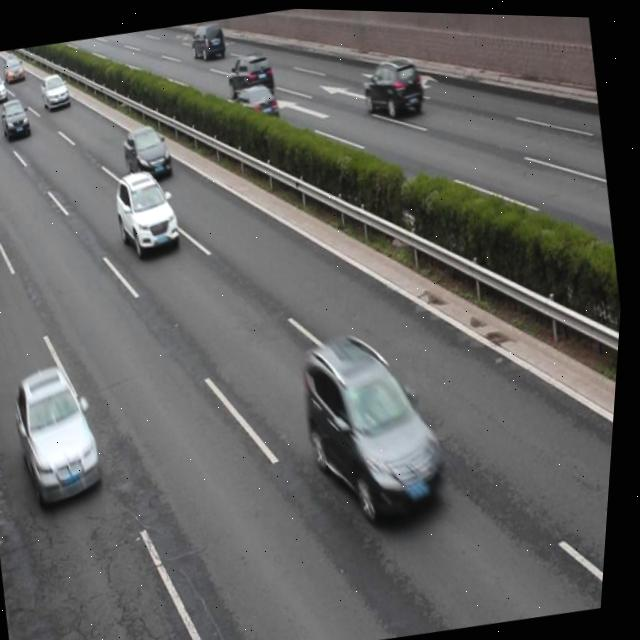car: (293, 317, 460, 532), (9, 359, 118, 516), (112, 163, 188, 259), (357, 48, 428, 121), (118, 120, 178, 185), (227, 79, 284, 134), (223, 47, 277, 98), (188, 17, 228, 62), (0, 95, 36, 143), (38, 71, 76, 116), (0, 195, 4, 273)
